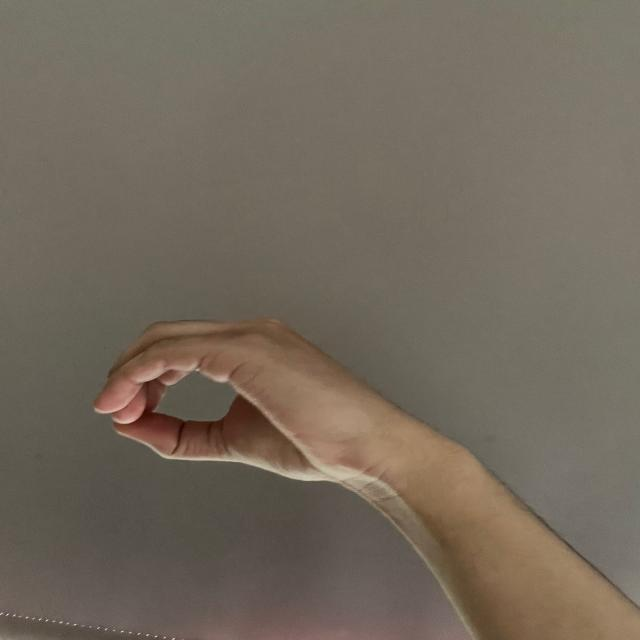O: (84, 307, 392, 511)
